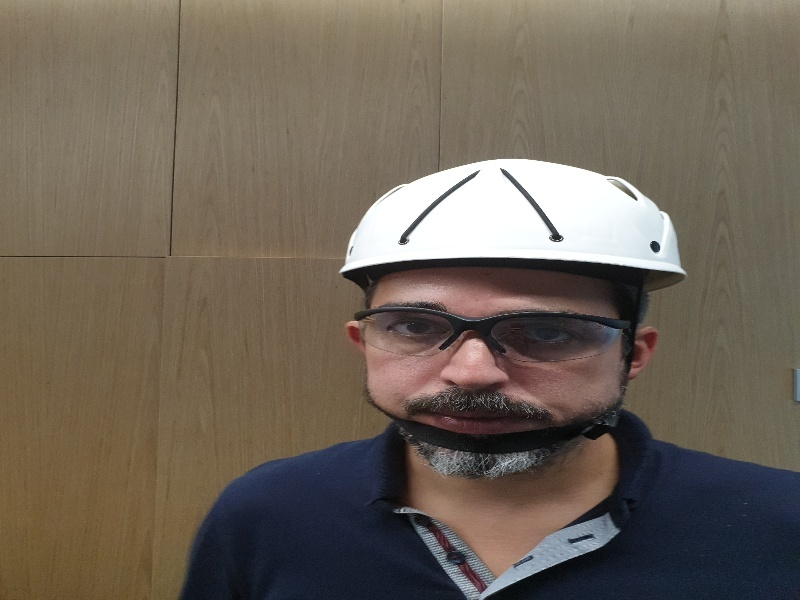Baret: (340, 156, 689, 289)
Gozluk: (354, 306, 648, 364)
